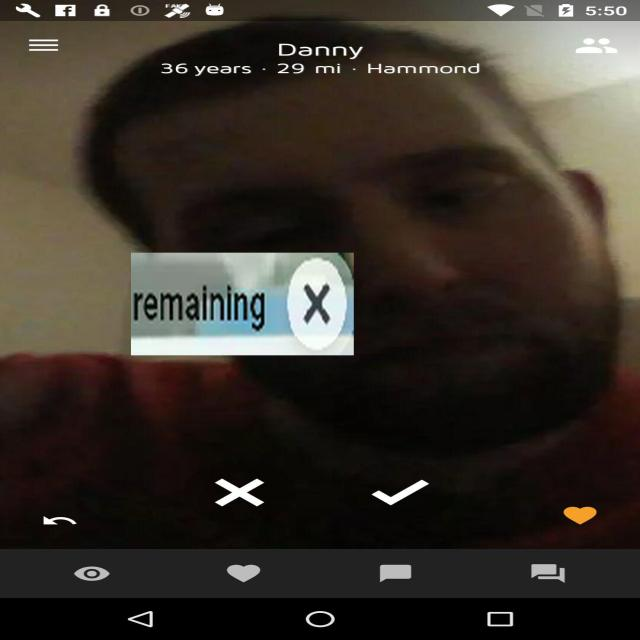misdirection: (131, 253, 354, 355)
